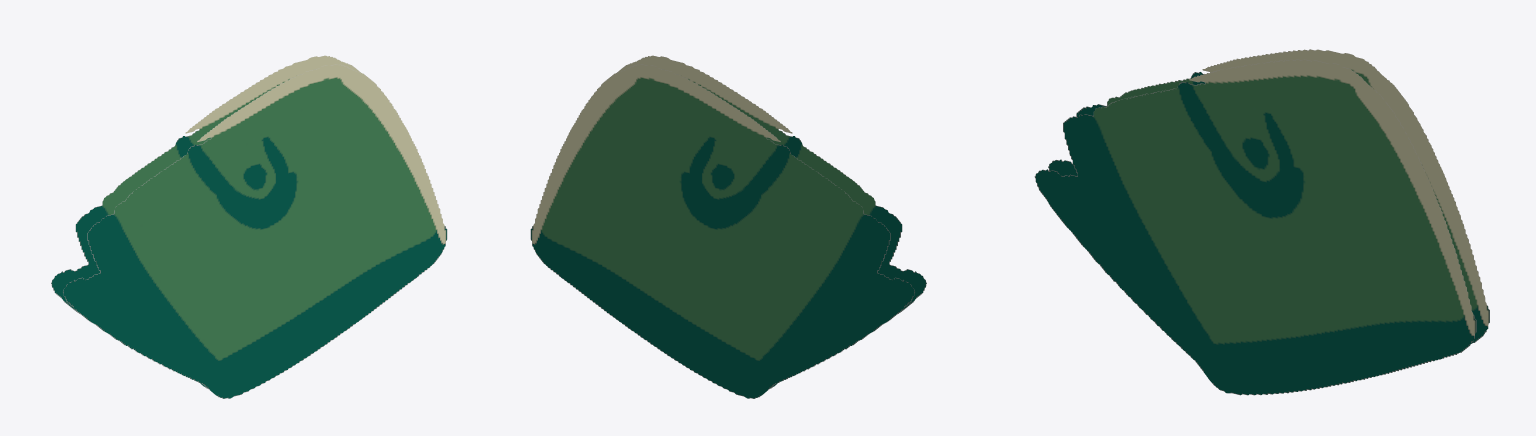
Rendered from Inv-Portemonaie.fbx.
The picture shows the model from 3 angles, left to right: view 1: azimuth 30°, elevation 25°; view 2: azimuth 150°, elevation 25°; view 3: azimuth 330°, elevation 25°; orthographic projection. The views are drawn at different scales.
Visible parts, largest first — view 1: Portmonaie; view 2: Portmonaie; view 3: Portmonaie.
Boxes of the visible parts, box(x1,y1,x2,y2) form: Portmonaie: box(51, 55, 447, 398); Portmonaie: box(530, 55, 926, 398); Portmonaie: box(1034, 49, 1489, 395).
Size of the model in its own units: 385 by 302 by 17.42.
Materials: 1 (1 with a texture image).
